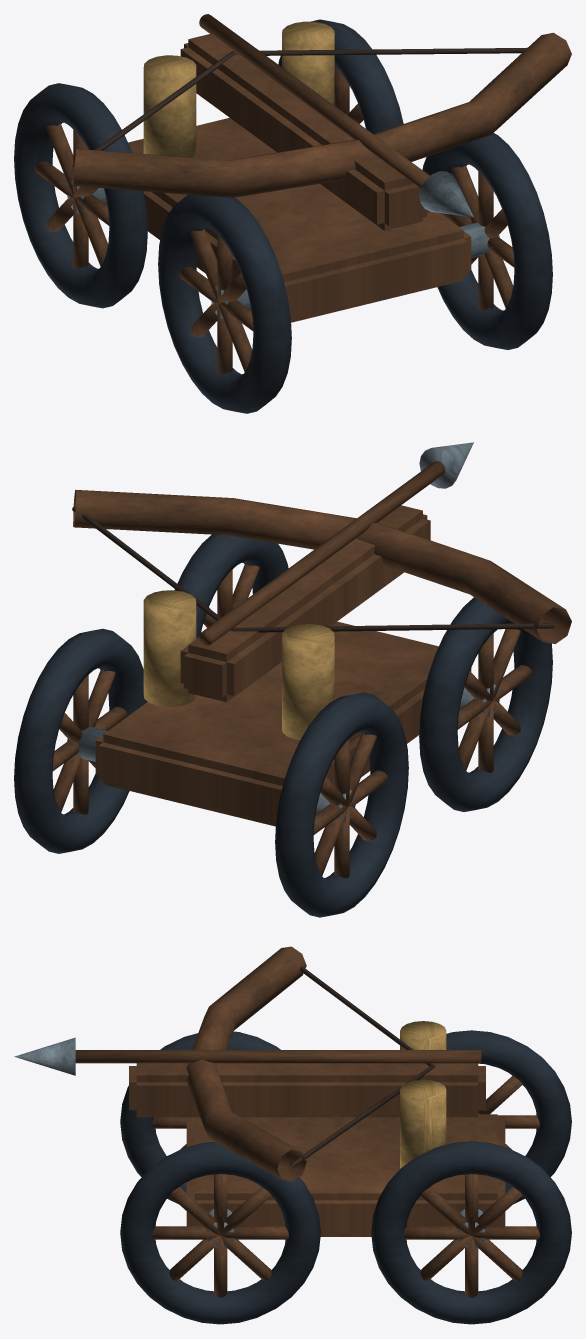
The model's file is enemy_ballista.glb.
The picture shows the model from 3 angles, top to bottom: view 1: azimuth 30°, elevation 25°; view 2: azimuth 150°, elevation 25°; view 3: azimuth 270°, elevation 25°; orthographic projection. The views are drawn at different scales.
Parts seen in each view (by area): view 1: Old_oak, Forged_black_iron, Antique_brass, Weathered_blue_steel, Oiled_leather; view 2: Old_oak, Forged_black_iron, Antique_brass, Oiled_leather, Weathered_blue_steel; view 3: Old_oak, Forged_black_iron, Antique_brass, Weathered_blue_steel, Oiled_leather.
Part boxes in pixels (left/top/right/bottom): Old_oak: left=35, top=14, right=571, bottom=374; Forged_black_iron: left=14, top=19, right=552, bottom=413; Antique_brass: left=143, top=21, right=334, bottom=157; Weathered_blue_steel: left=67, top=171, right=499, bottom=318; Oiled_leather: left=72, top=47, right=527, bottom=169; Old_oak: left=52, top=461, right=571, bottom=878; Forged_black_iron: left=14, top=534, right=552, bottom=917; Antique_brass: left=143, top=590, right=334, bottom=739; Oiled_leather: left=72, top=506, right=554, bottom=632; Weathered_blue_steel: left=67, top=442, right=499, bottom=822; Old_oak: left=75, top=946, right=539, bottom=1297; Forged_black_iron: left=120, top=1030, right=571, bottom=1324; Antique_brass: left=400, top=1021, right=446, bottom=1168; Weathered_blue_steel: left=14, top=1037, right=485, bottom=1247; Oiled_leather: left=290, top=966, right=435, bottom=1167.
Size of the model in its own units: 4.54 by 2.29 by 5.06.
Materials: 5 (5 with a texture image).
